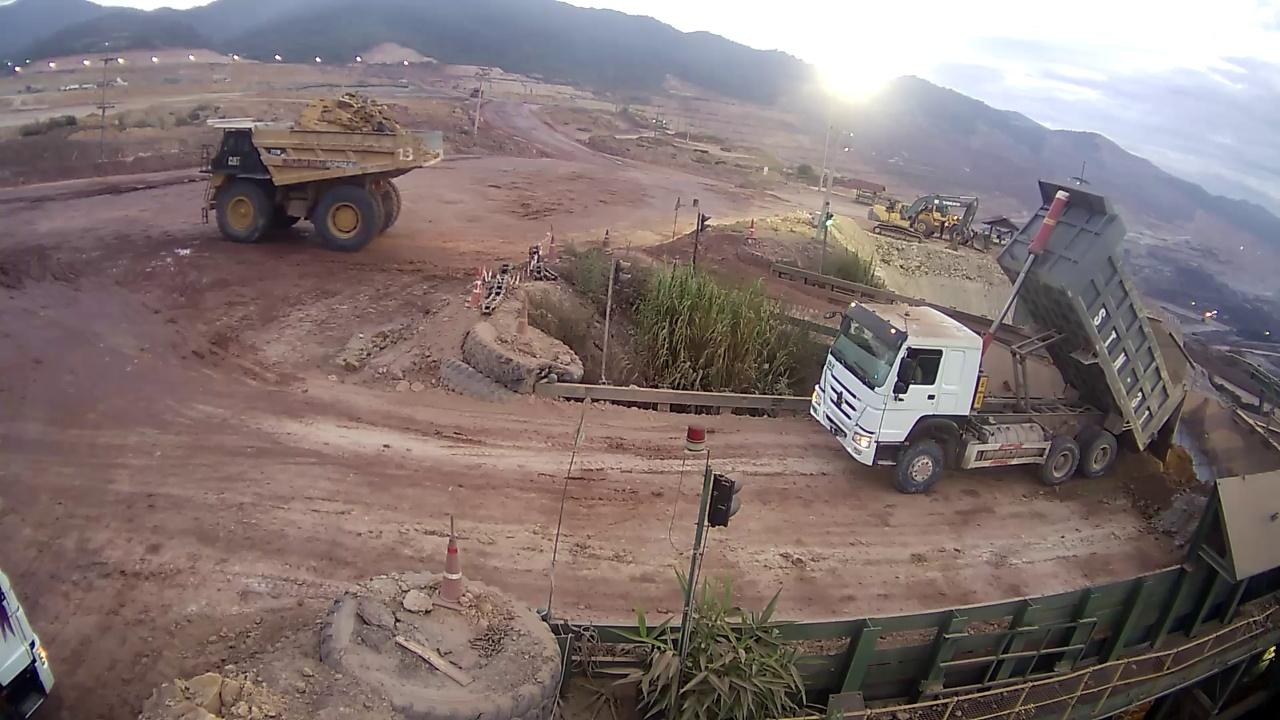full_load: (274, 96, 410, 133)
mining_truck: (197, 90, 445, 252)
tail_number: (391, 141, 420, 168)
